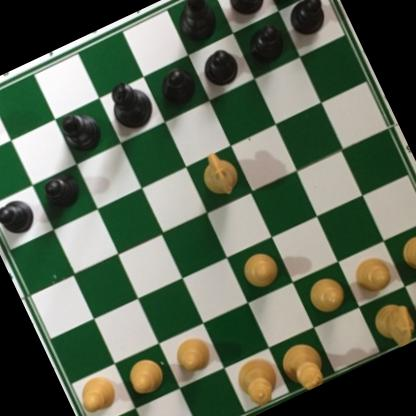black-bishop: (54, 104, 110, 161), (166, 0, 220, 48)
black-king: (99, 71, 161, 140)
black-knight: (217, 0, 275, 26)
black-pawn: (152, 63, 203, 115), (242, 20, 291, 71), (198, 44, 245, 93), (39, 169, 85, 214), (283, 0, 333, 41), (0, 191, 40, 241)
black-rook: (252, 0, 321, 7)
white-bishop: (0, 97, 3, 160)
white-king: (272, 334, 332, 398)
white-knight: (364, 291, 416, 355), (192, 146, 246, 205)
white-pawn: (167, 330, 218, 381), (302, 271, 351, 320), (123, 352, 171, 400), (238, 247, 285, 296), (348, 252, 396, 299), (73, 372, 123, 416), (393, 227, 416, 279)
white-queen: (227, 351, 286, 413)
white-rook: (406, 264, 416, 329), (85, 413, 151, 416)
